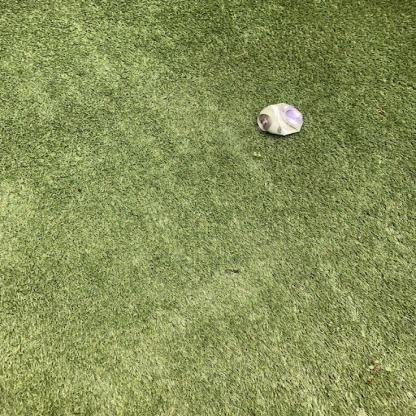trash: (254, 100, 309, 145)
